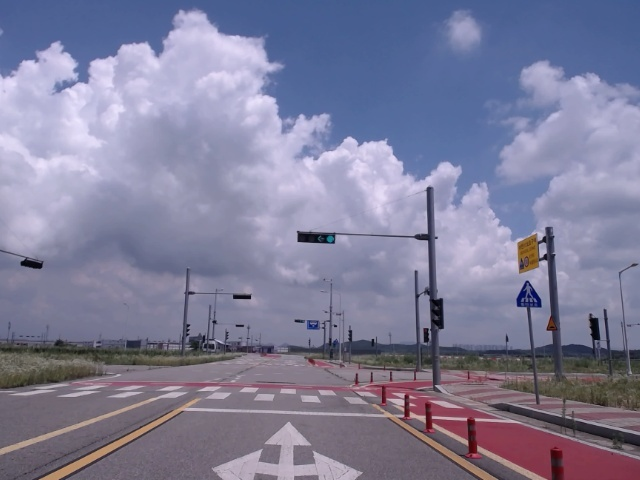all_green_4: (298, 230, 339, 240)
